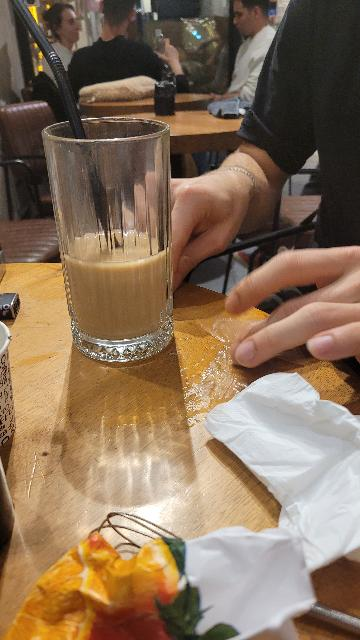Cam: (42, 119, 170, 376)
Kagit: (0, 531, 313, 640), (203, 373, 360, 567)
Plastik: (5, 0, 102, 122)
